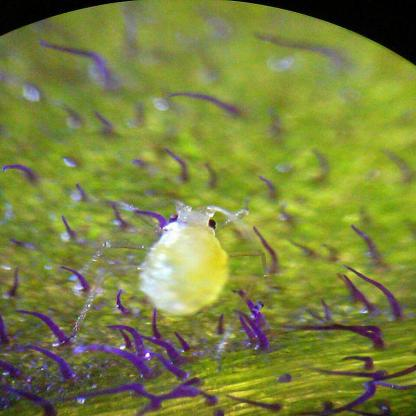aphid: (126, 198, 264, 326)
